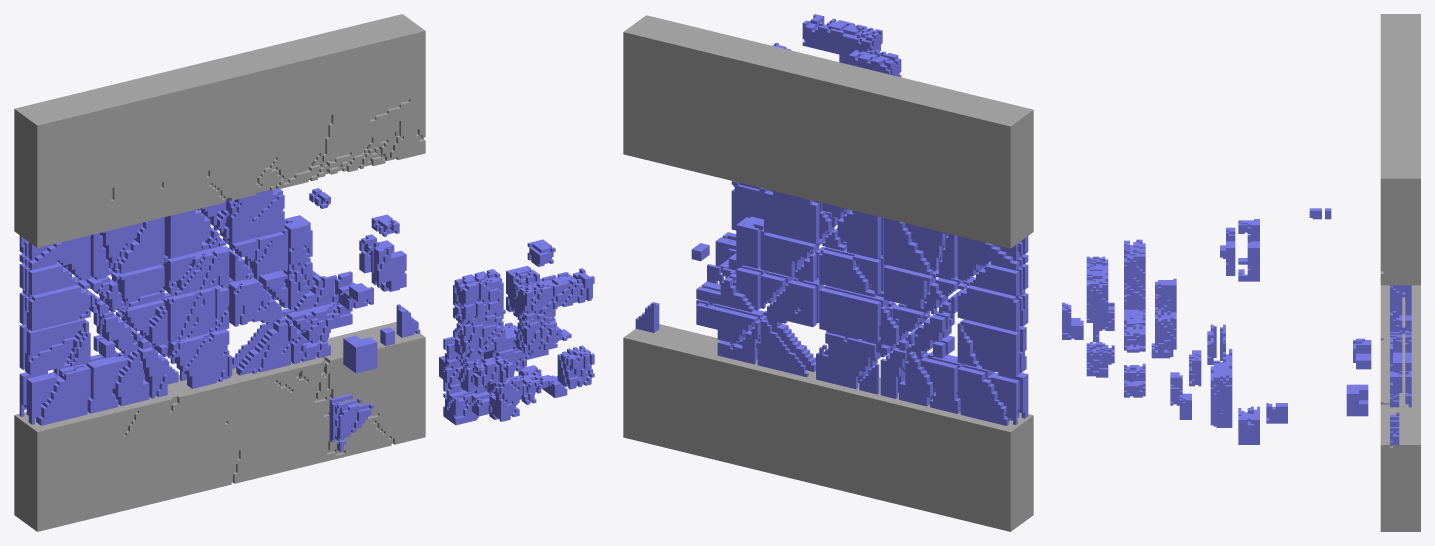
The model's file is Operating_room_Window1-2-1.fbx.
The picture shows the model from 3 angles, left to right: view 1: azimuth 30°, elevation 25°; view 2: azimuth 150°, elevation 25°; view 3: azimuth 270°, elevation 25°; orthographic projection. The views are drawn at different scales.
Parts seen in each view (by area): view 1: Operating room Window1-2-1.010, Operating room Window1-2-1.001, Operating room Window1-2-1.095, Operating room Window1-2-1.065, Operating room Window1-2-1.102, Operating room Window1-2-1.004, Operating room Window1-2-1.050, Operating room Window1-2-1.006, Operating room Window1-2-1.055, Operating room Window1-2-1.084, Operating room Window1-2-1.052, Operating room Window1-2-1.011 (+26 smaller); view 2: Operating room Window1-2-1.010, Operating room Window1-2-1.001, Operating room Window1-2-1.066, Operating room Window1-2-1.005, Operating room Window1-2-1.007, Operating room Window1-2-1.051, Operating room Window1-2-1.085, Operating room Window1-2-1.102, Operating room Window1-2-1.056, Operating room Window1-2-1.057, Operating room Window1-2-1.012, Operating room Window1-2-1.014 (+25 smaller); view 3: Operating room Window1-2-1.010, Operating room Window1-2-1.001, Operating room Window1-2-1.095, Operating room Window1-2-1.099, Operating room Window1-2-1.102, Operating room Window1-2-1.108, Operating room Window1-2-1.106, Operating room Window1-2-1.109, Operating room Window1-2-1.083, Operating room Window1-2-1.093, Operating room Window1-2-1.097, Operating room Window1-2-1.086 (+6 smaller).
Boxes of the visible parts, x1,y1,x2,y2 form: Operating room Window1-2-1.010: (14, 14, 425, 247); Operating room Window1-2-1.001: (14, 322, 425, 531); Operating room Window1-2-1.095: (453, 269, 571, 386); Operating room Window1-2-1.065: (225, 188, 287, 276); Operating room Window1-2-1.102: (514, 268, 594, 353); Operating room Window1-2-1.004: (25, 318, 90, 374); Operating room Window1-2-1.050: (163, 285, 229, 342); Operating room Window1-2-1.006: (25, 235, 90, 295); Operating room Window1-2-1.055: (168, 329, 232, 388); Operating room Window1-2-1.084: (284, 302, 352, 363); Operating room Window1-2-1.052: (163, 246, 229, 295); Operating room Window1-2-1.011: (25, 284, 90, 331); Operating room Window1-2-1.010: (623, 15, 1033, 248); Operating room Window1-2-1.001: (623, 324, 1033, 531); Operating room Window1-2-1.066: (760, 190, 819, 276); Operating room Window1-2-1.005: (957, 319, 1019, 376); Operating room Window1-2-1.007: (957, 236, 1019, 296); Operating room Window1-2-1.051: (819, 288, 881, 342); Operating room Window1-2-1.085: (696, 303, 760, 364); Operating room Window1-2-1.102: (802, 14, 882, 64); Operating room Window1-2-1.056: (816, 332, 876, 389); Operating room Window1-2-1.057: (819, 249, 881, 297); Operating room Window1-2-1.012: (957, 285, 1019, 331); Operating room Window1-2-1.014: (957, 366, 1008, 425); Operating room Window1-2-1.010: (1380, 14, 1420, 285); Operating room Window1-2-1.001: (1380, 285, 1420, 531); Operating room Window1-2-1.095: (1124, 239, 1145, 352); Operating room Window1-2-1.099: (1210, 349, 1232, 427); Operating room Window1-2-1.102: (1086, 256, 1108, 322); Operating room Window1-2-1.108: (1155, 294, 1176, 349); Operating room Window1-2-1.106: (1238, 406, 1259, 444); Operating room Window1-2-1.109: (1086, 342, 1108, 377); Operating room Window1-2-1.083: (1238, 234, 1259, 281); Operating room Window1-2-1.093: (1062, 302, 1083, 339); Operating room Window1-2-1.097: (1346, 384, 1368, 416); Operating room Window1-2-1.086: (1390, 291, 1402, 334).
Bounding box in the file's own units: 12.6 × 12.6 × 11.6.
